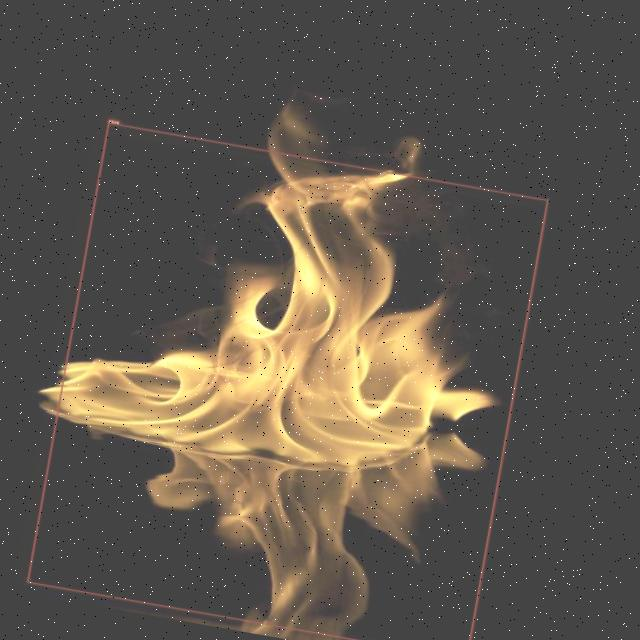fire: (26, 121, 547, 640)
